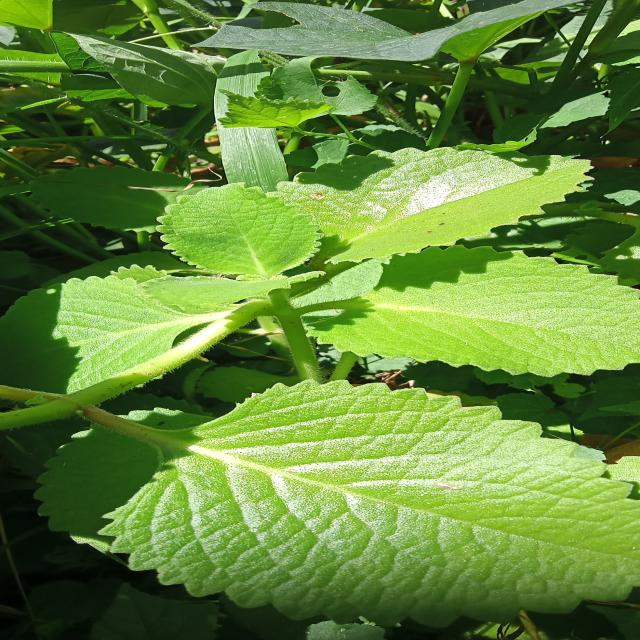Oregano: (38, 375, 640, 622), (97, 177, 472, 325)
